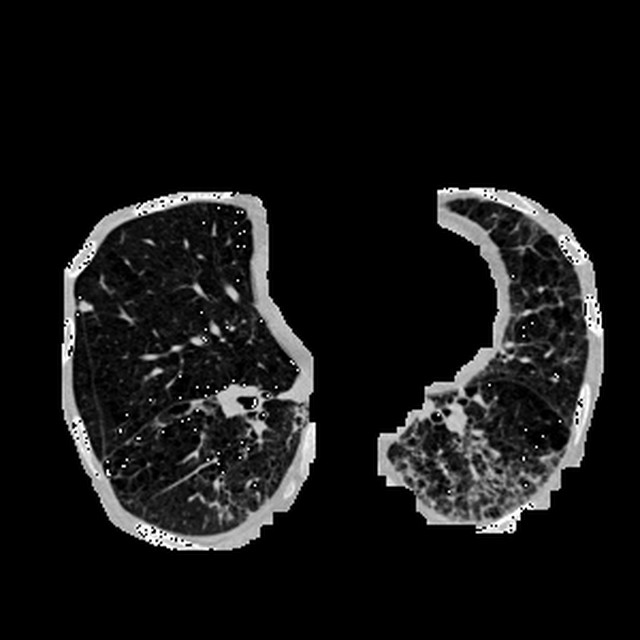PN: (79, 301, 92, 314)
